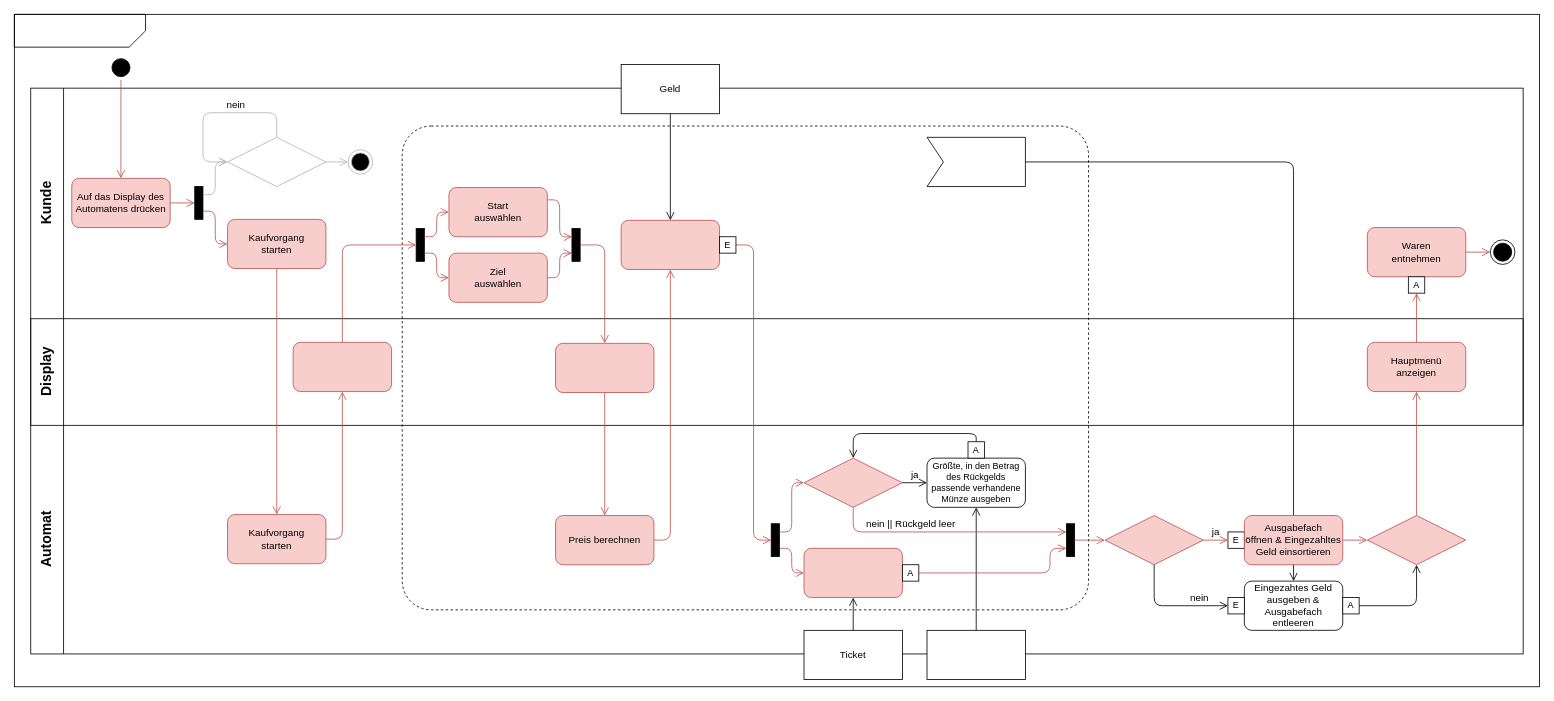
The diagram is 1554 pixels wide and 701 high, and some of its shapes have lost their labels. Here are the shapes that lost their labels. From the top down, the centre of each, then its label:
point 80,30: act : Fahrkarte kaufen
point 276,162: Kaufvorgang abbrechen?
point 975,162: Abbrechen
point 670,245: Preis bezahlen
point 342,367: Seite für Kaufvorgang anzeigen
point 604,368: Route anzeigen
point 852,482: Rückgeld nötig?
point 1153,540: Rückgeld ausreichen?
point 852,573: Ticket drucken
point 975,655: Rückgeld
